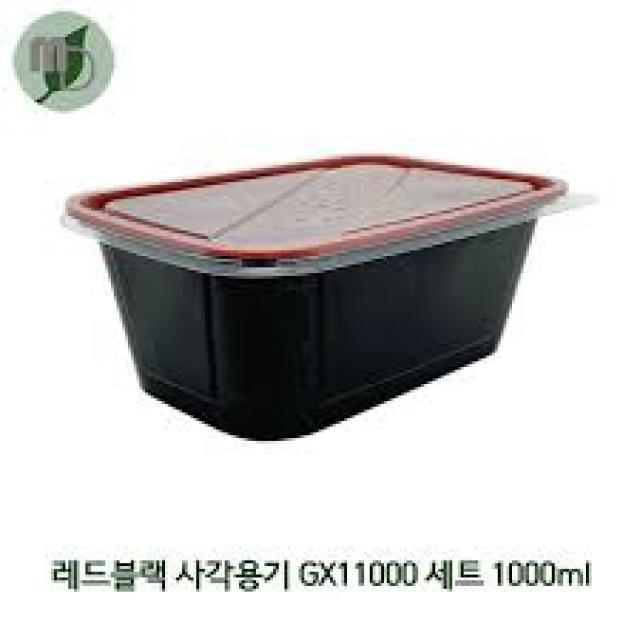disposable: (66, 136, 603, 450)
